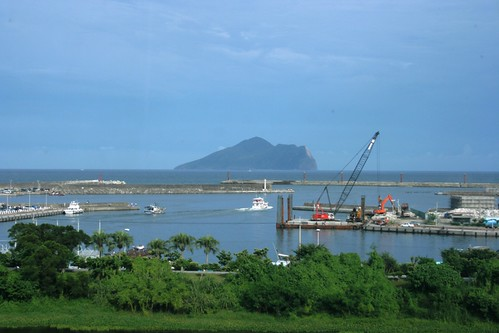turtleIsland: (170, 135, 317, 170)
